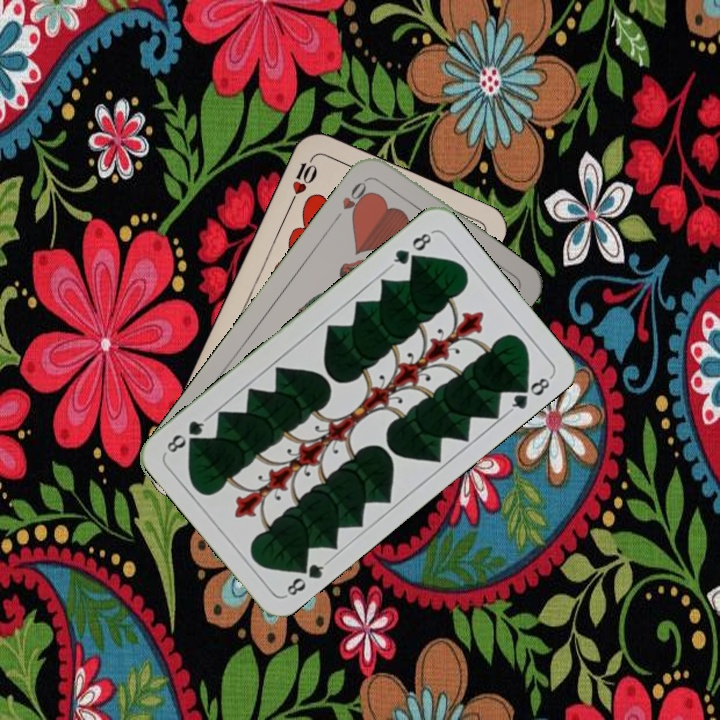G8: (386, 227, 437, 270), (281, 556, 331, 599)
H10: (286, 151, 320, 207)
HO: (330, 174, 374, 225)
